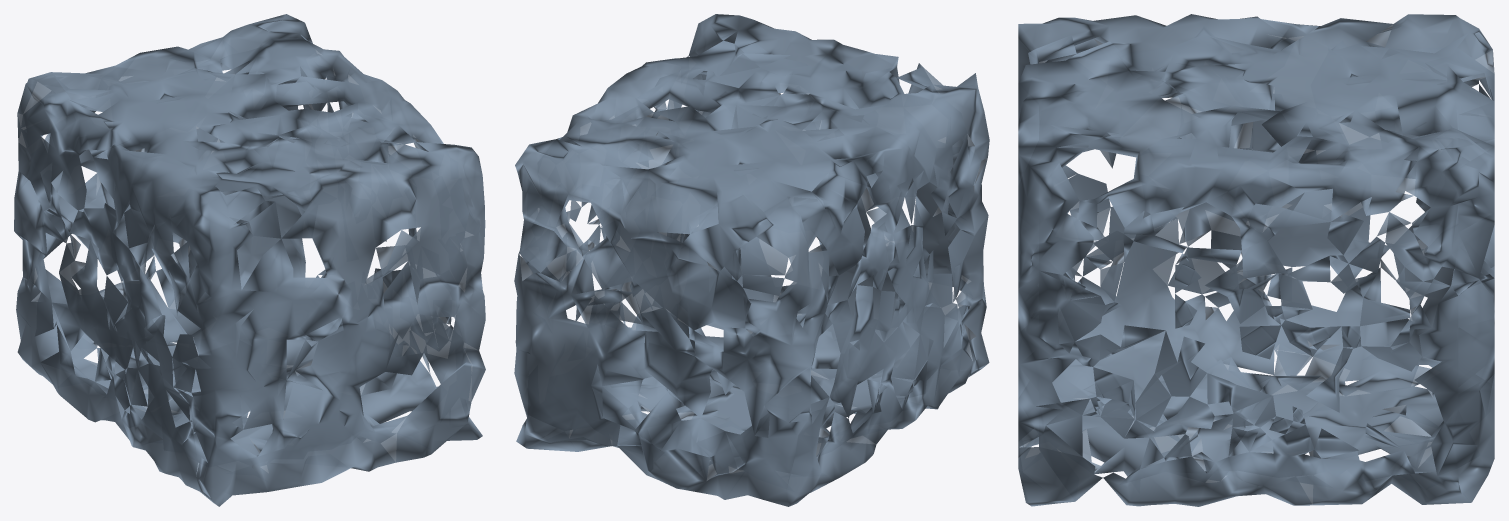
The model's file is sample_430_orig.obj.
3 views of the same model, side by side, from view 1: azimuth 30°, elevation 25°; view 2: azimuth 150°, elevation 25°; view 3: azimuth 270°, elevation 25° (orthographic). The views are drawn at different scales.
Bounding box in the file's own units: 1.08 × 1.08 × 1.38.
